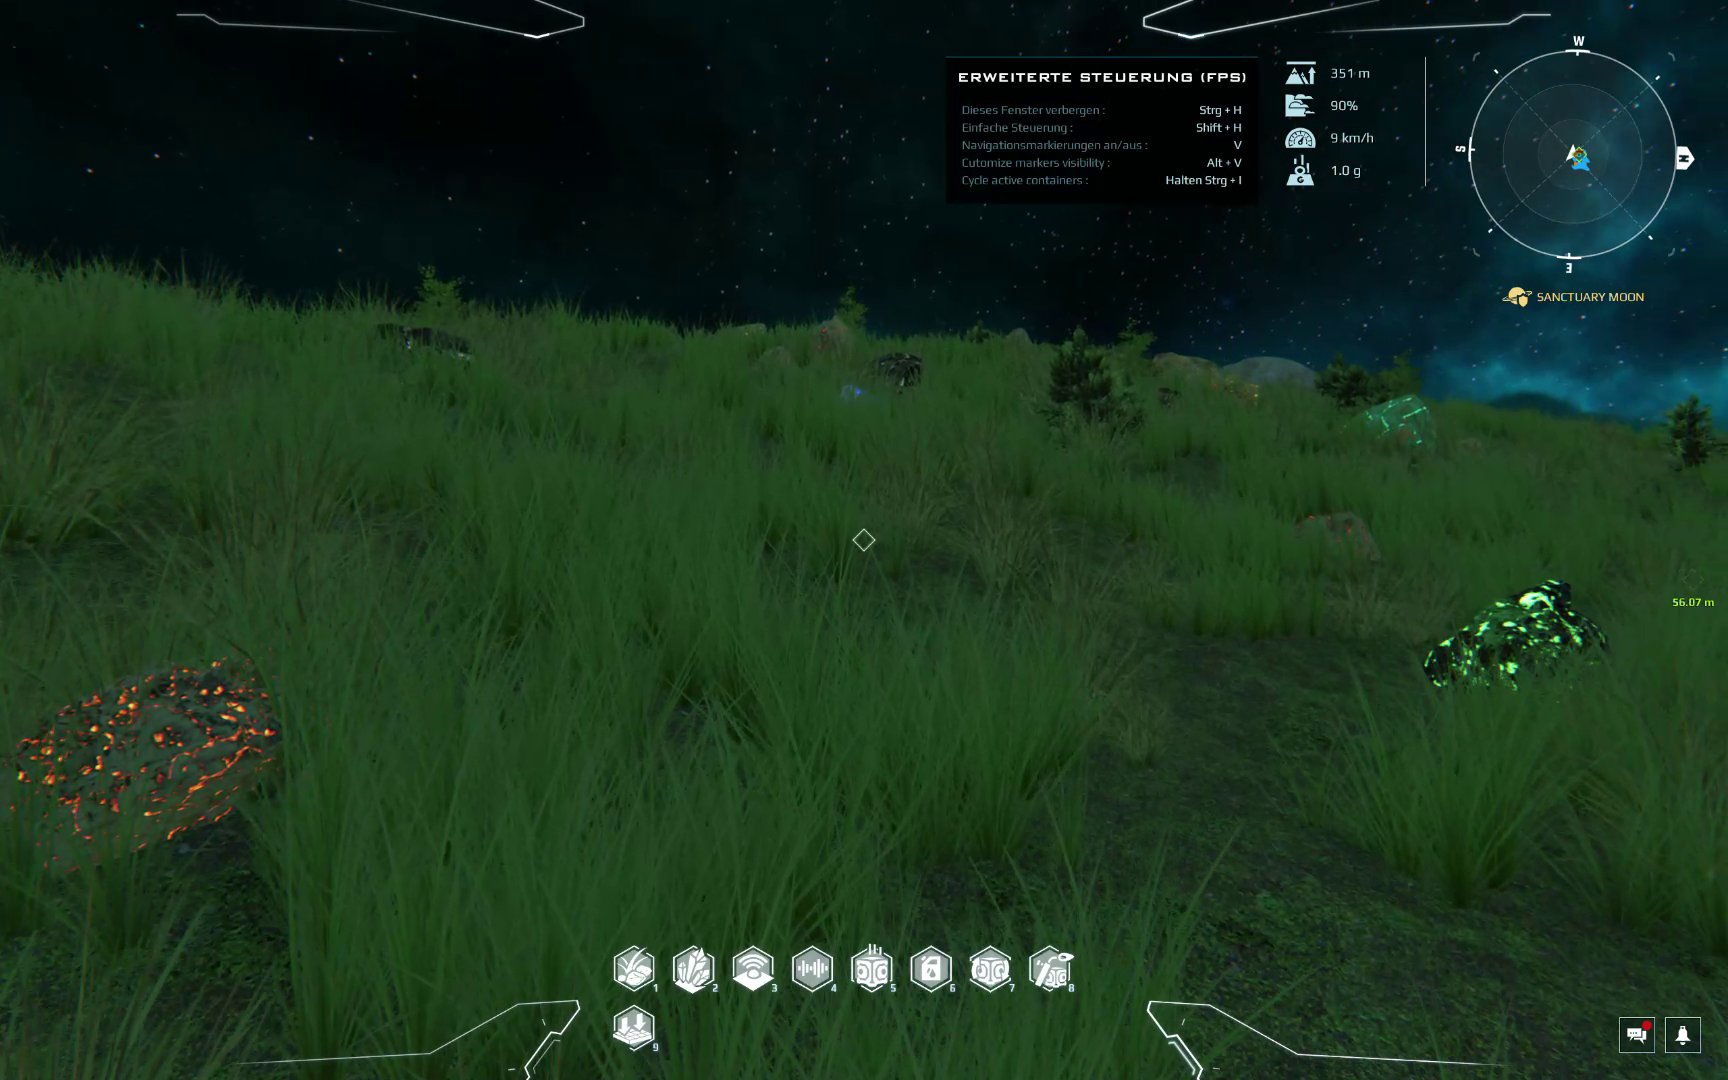Ore: (4, 653, 286, 873), (1418, 574, 1612, 694), (1335, 393, 1434, 465), (360, 317, 474, 376), (1290, 509, 1383, 562), (799, 317, 851, 375), (867, 351, 926, 396), (1219, 373, 1261, 412), (756, 343, 794, 378), (838, 384, 870, 407)
